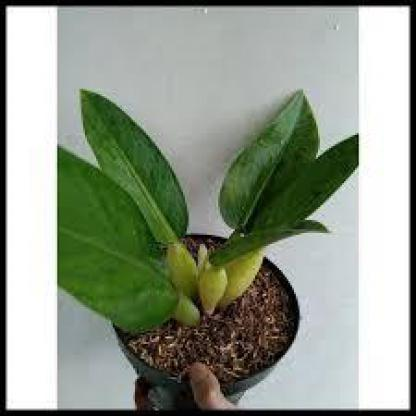Kenanga: (51, 93, 363, 317)
